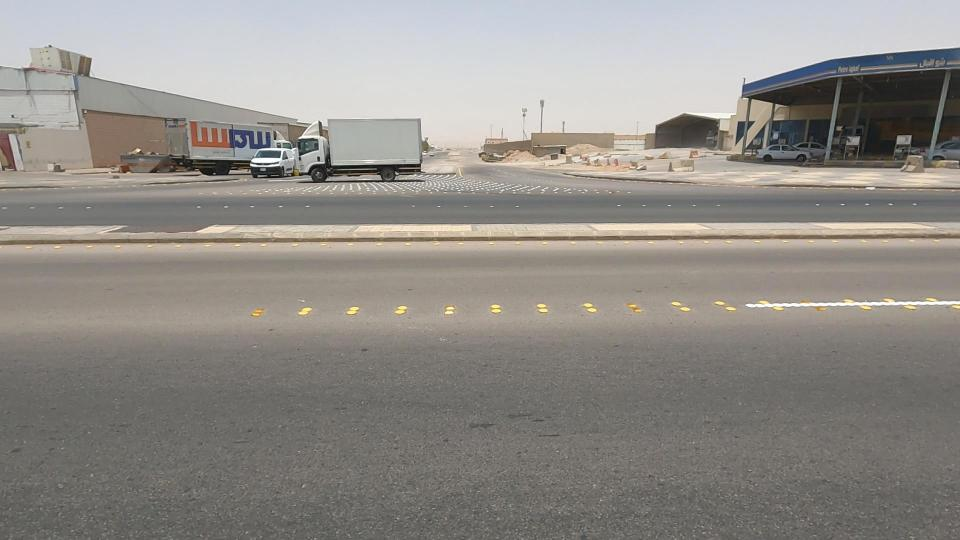GARBAGE: (103, 130, 181, 174), (93, 150, 145, 198)
